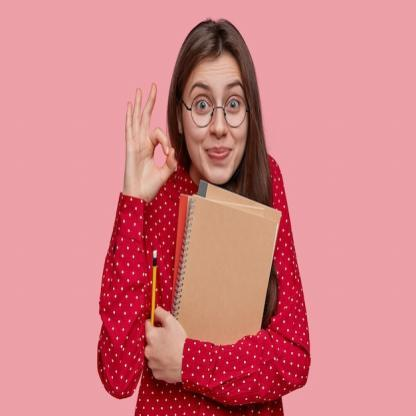ok: (123, 81, 178, 204)
